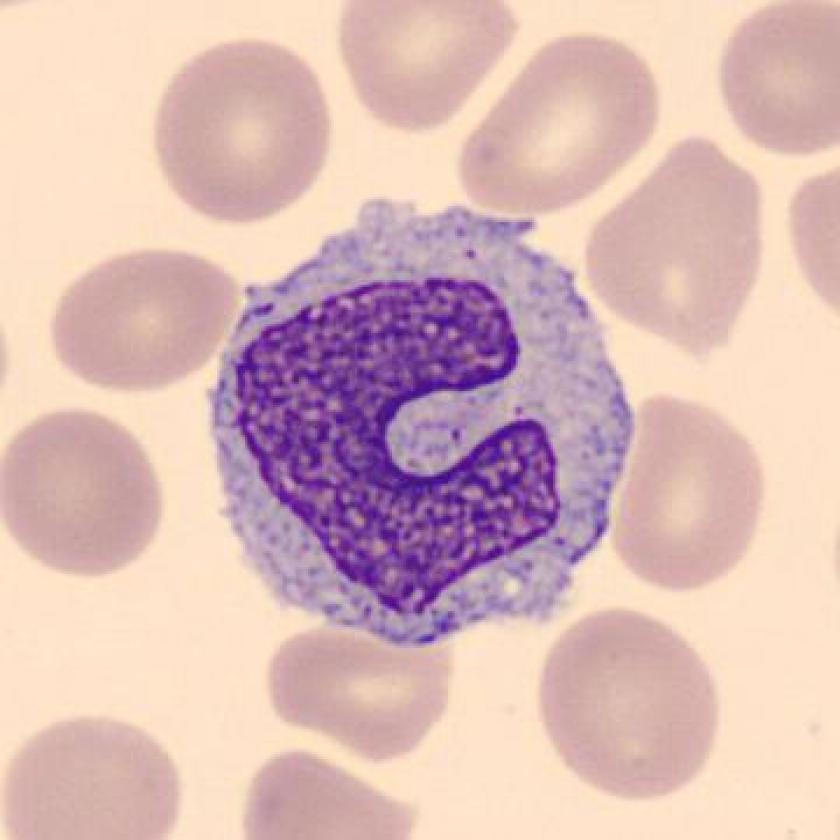monocyte: (199, 177, 650, 658)
